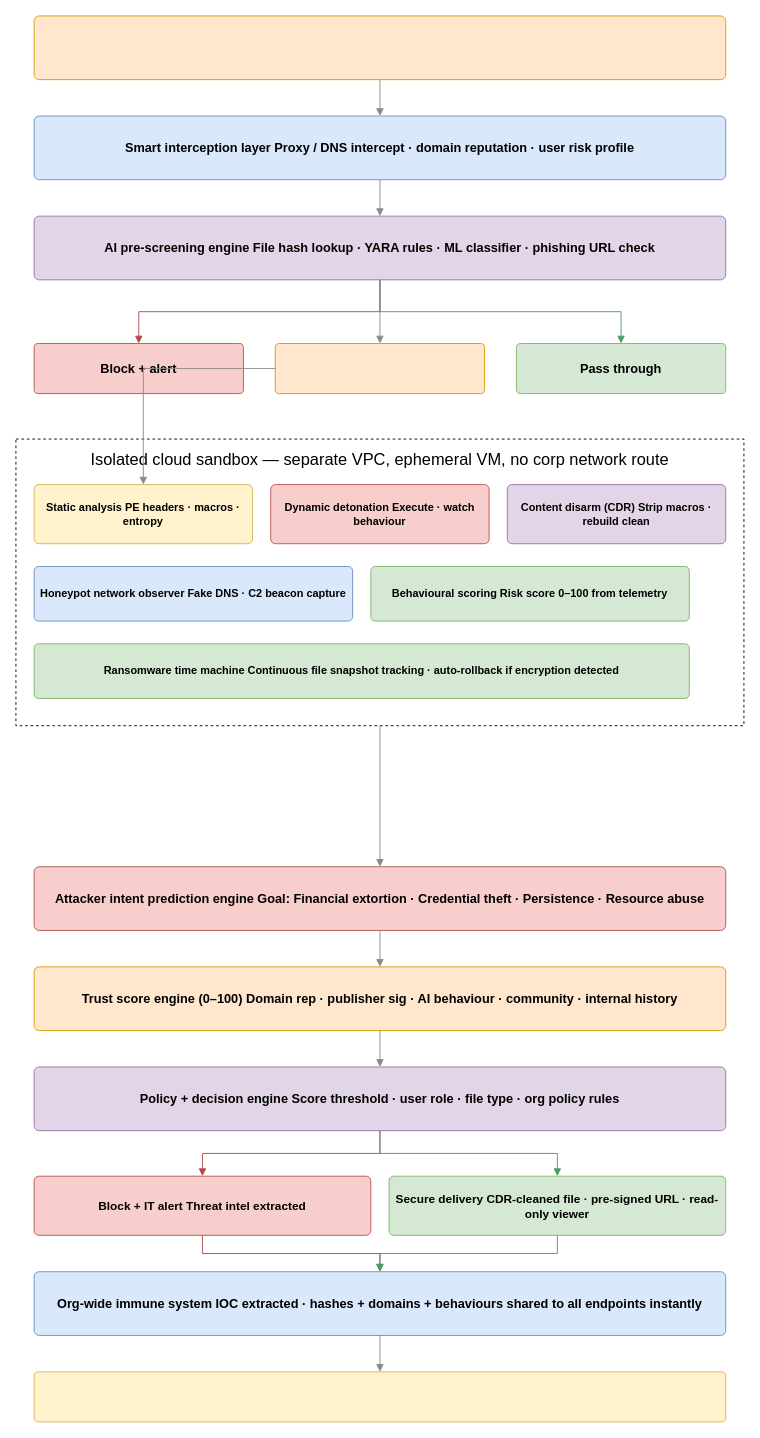
Some shapes in this 760 by 1438 pixel diagram are drawn without their labels. Each missing label, with the centre of its shape:
"All verdicts logged to SIEM · SOC dashboard updated" belongs at [379,1396].
"Deep sandbox" belongs at [379,368].
"Employee endpoint Attempts to download unrecognised file from the internet" belongs at [379,47].
